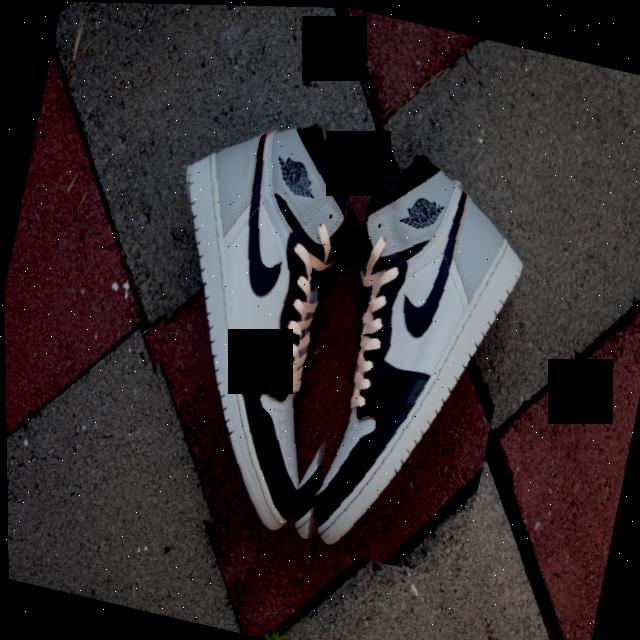shoe: (275, 135, 543, 580), (115, 90, 372, 539)
